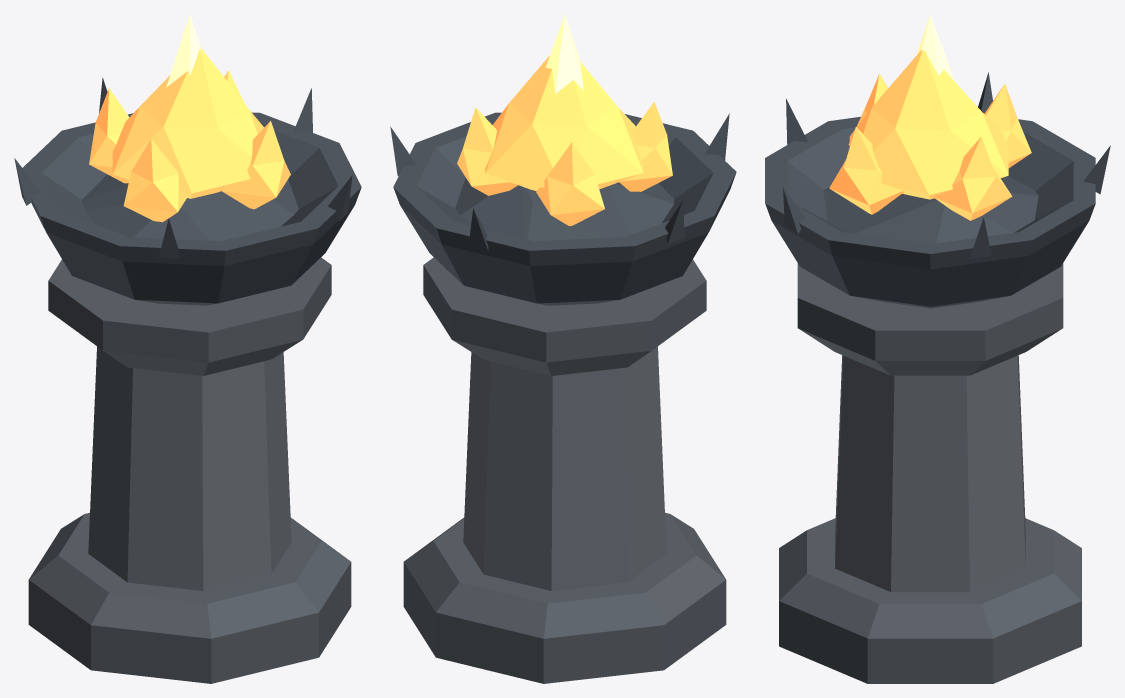
File: Brazier.fbx
3 views of the same model, side by side, from view 1: azimuth 30°, elevation 25°; view 2: azimuth 150°, elevation 25°; view 3: azimuth 270°, elevation 25° (orthographic).
Parts seen in each view (by area): view 1: PedestalTrim, Pedestal, Bowl, Flame, FlameCore; view 2: PedestalTrim, Pedestal, Bowl, Flame, FlameCore; view 3: PedestalTrim, Pedestal, Bowl, Flame, FlameCore.
Part boxes in pixels (left/top/right/bottom): PedestalTrim: left=28, top=257, right=351, bottom=683; Pedestal: left=88, top=346, right=291, bottom=590; Bowl: left=14, top=77, right=361, bottom=305; Flame: left=89, top=48, right=290, bottom=222; FlameCore: left=166, top=14, right=201, bottom=87; PedestalTrim: left=403, top=257, right=726, bottom=683; Pedestal: left=463, top=346, right=666, bottom=590; Bowl: left=390, top=112, right=736, bottom=305; Flame: left=457, top=55, right=672, bottom=225; FlameCore: left=545, top=14, right=583, bottom=93; PedestalTrim: left=779, top=263, right=1081, bottom=683; Pedestal: left=835, top=355, right=1025, bottom=592; Bowl: left=765, top=72, right=1110, bottom=308; Flame: left=829, top=50, right=1031, bottom=220; FlameCore: left=916, top=14, right=954, bottom=81.
Bounding box in the file's own units: 2.08 × 4 × 2.07.
